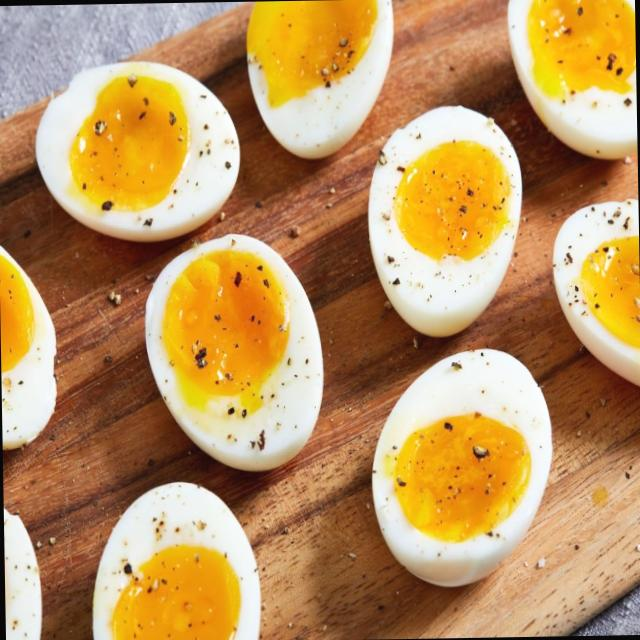trung luoc: (372, 348, 552, 585), (145, 234, 323, 471), (35, 62, 240, 241), (368, 106, 521, 336), (93, 482, 261, 640), (246, 0, 393, 158), (507, 0, 637, 158), (552, 199, 640, 385), (0, 246, 57, 448), (4, 509, 41, 640)
